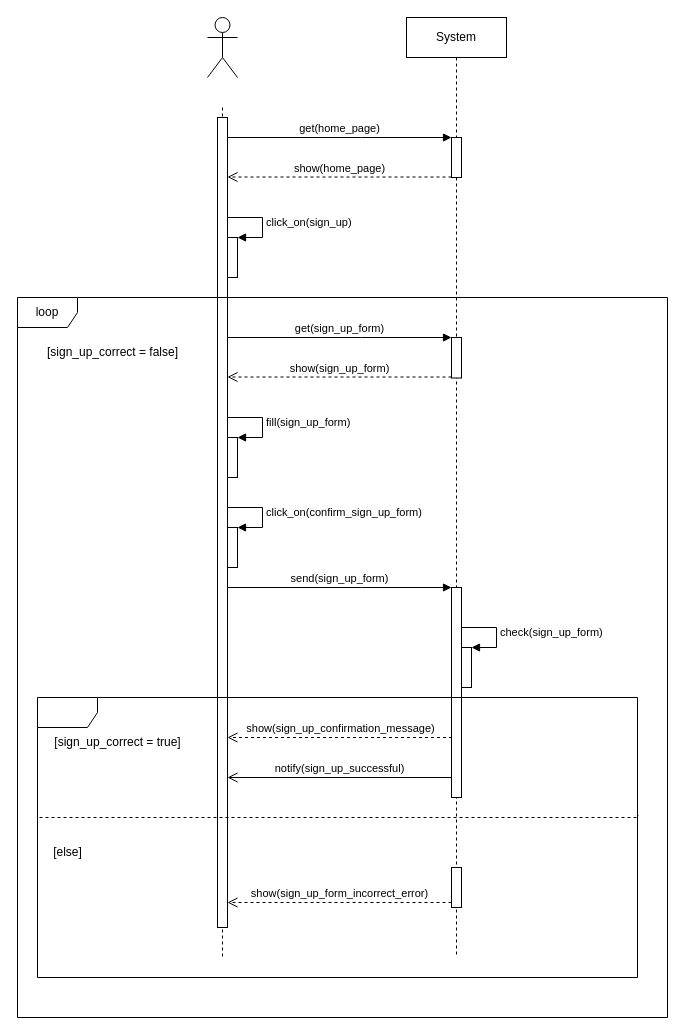
Some shapes in this 685 by 1035 pixel diagram are drawn without their labels. Here are the shapes that lost their labels. From the top down, the box of each, then its label:
(206, 16, 238, 78): User
(36, 696, 638, 978): alt
